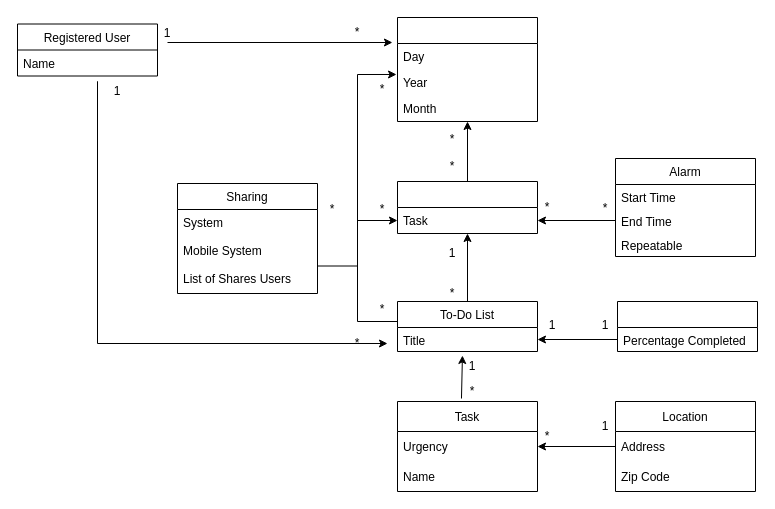
The diagram is 775 pixels wide and 509 high, and some of its shapes have lost their labels. The shapes that lost their labels are listed below. From the top down, each one's box as (x1, y1, x2, y2) in pixels, then its label:
(396, 16, 538, 122): Calendar
(396, 180, 538, 234): Events
(616, 300, 758, 352): Reinforcement
